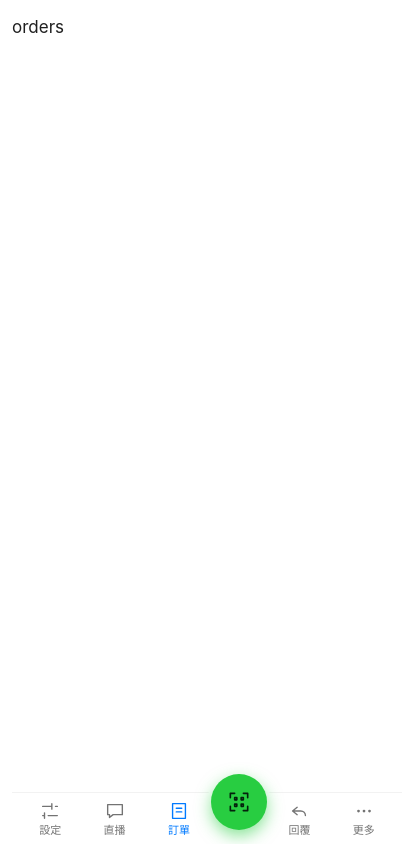
TabBar More menu › closes on a tap outside it and when the page changes
Click the button "更多" at (364, 818), box [332,796,396,840]
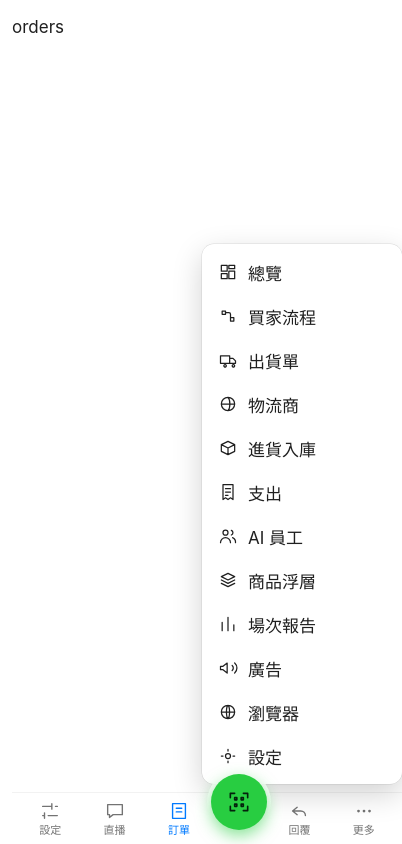
expect the menu is shown: met, box [202,244,401,784]
Press the mouse on the text with test id "page" at (38, 27), box [12,17,64,37]
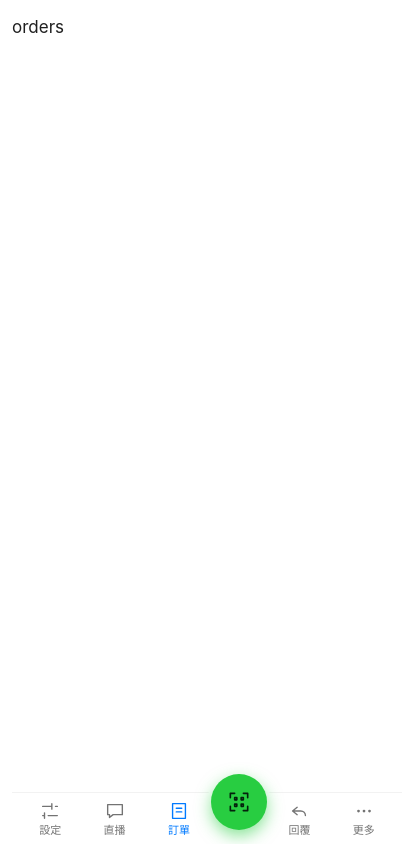
expect the menu is gone: met
Click the button "更多" at (364, 818), box [332,796,396,840]
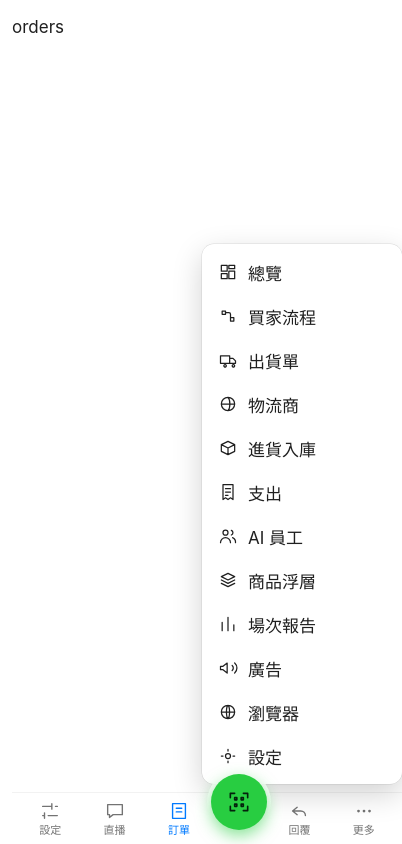
Click the menu item "總覽" at (302, 272), box [208,250,396,294]
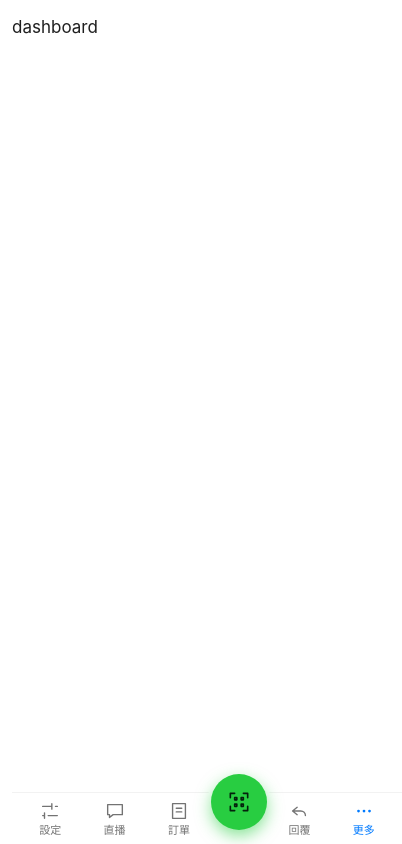
expect the menu is gone: met
Click the button "更多" at (364, 818), box [332,796,396,840]
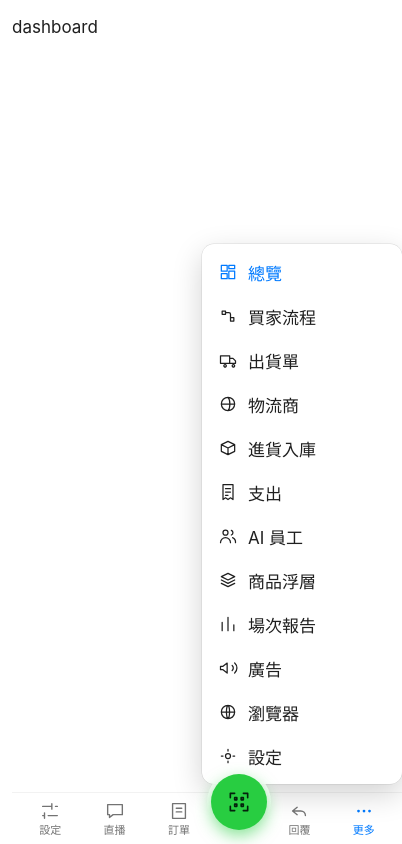
# another tab: the menu does not stay over the next screen
Click the button "設定" at (50, 818), box [18,796,82,840]
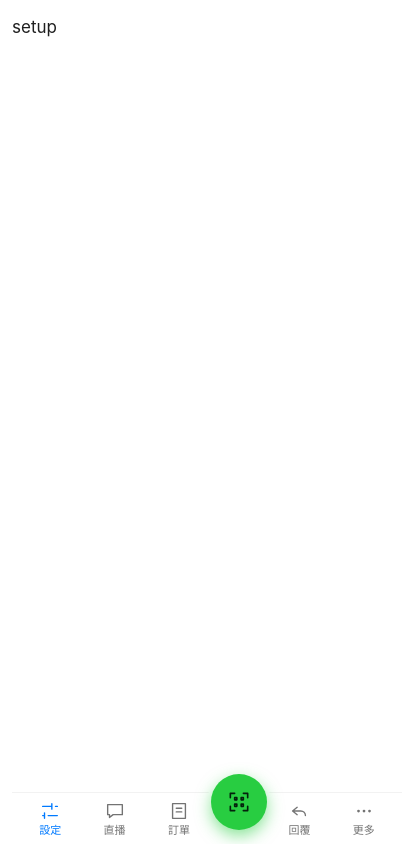
expect the menu is gone: met
